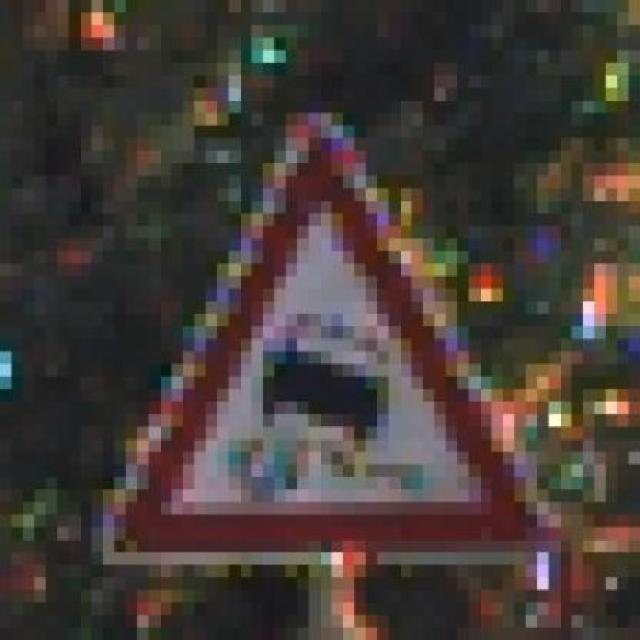Slippery Road Ahead: (91, 100, 560, 565)
